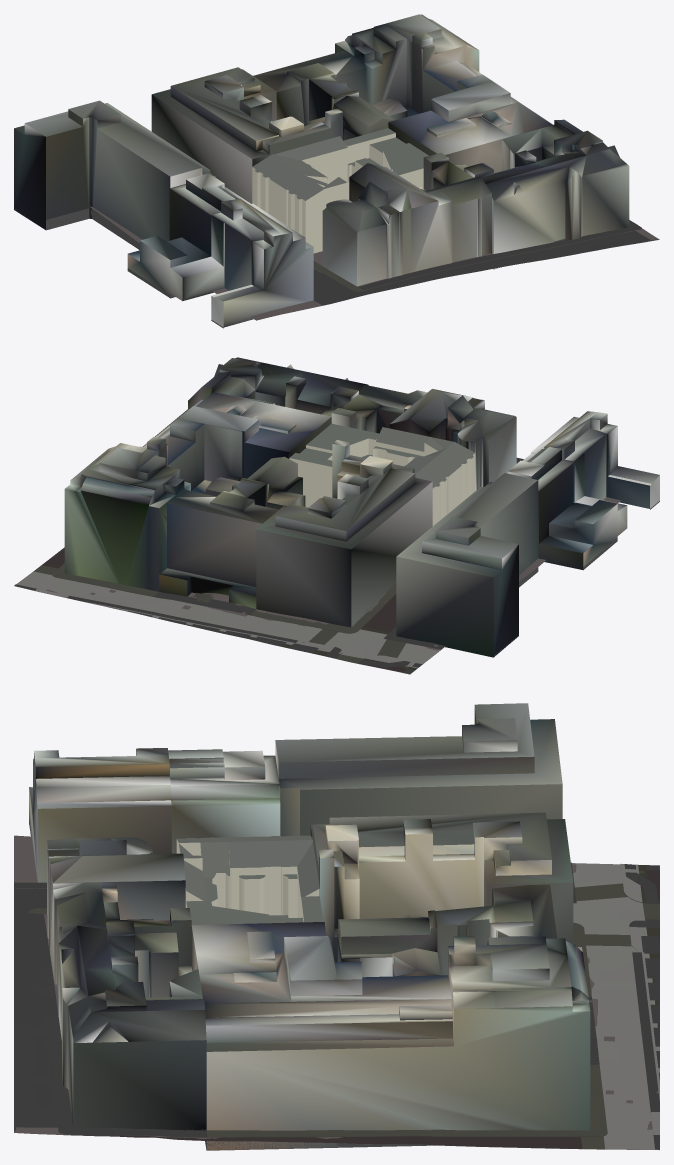
3 views of the same model, one above another, from view 1: azimuth 30°, elevation 25°; view 2: azimuth 150°, elevation 25°; view 3: azimuth 270°, elevation 25° (orthographic). The views are drawn at different scales.
Visible parts, largest first — view 1: c_m03_p02; view 2: c_m03_p02; view 3: c_m03_p02.
Boxes of the visible parts, x1,y1,x2,y2 form: c_m03_p02: [14, 14, 659, 328]; c_m03_p02: [14, 357, 659, 674]; c_m03_p02: [14, 703, 659, 1150].
Size of the model in its own units: 143 by 36.96 by 128.
